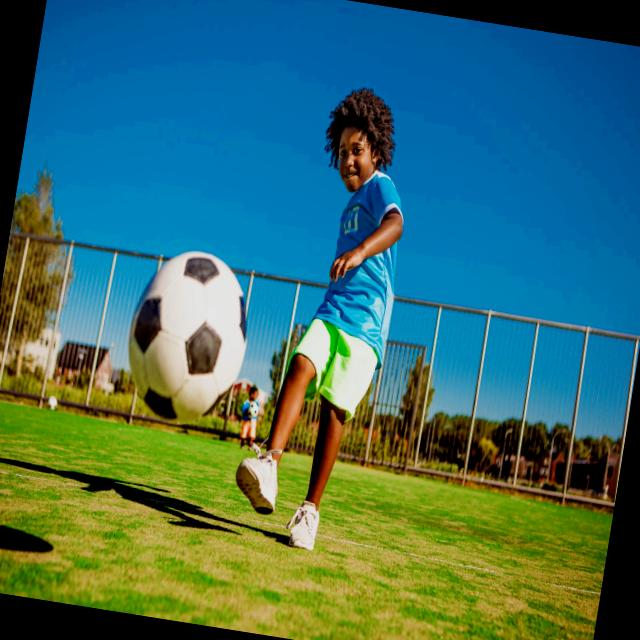ball: (113, 237, 270, 439)
